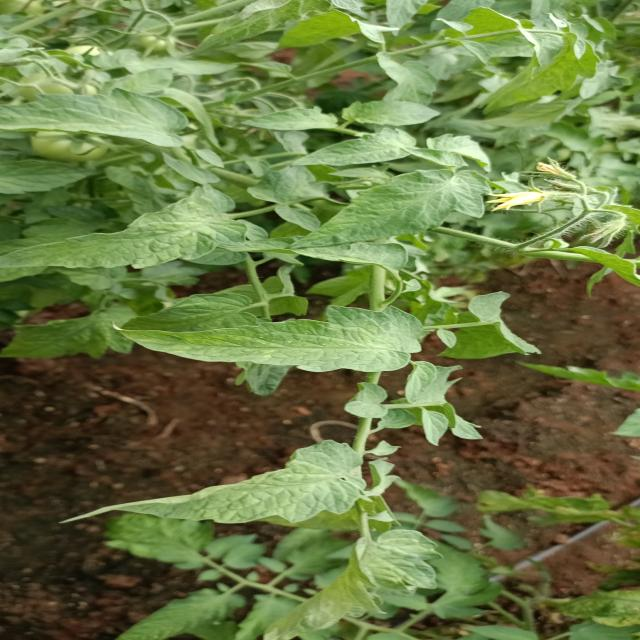Healthy Leaf: (57, 438, 383, 530), (85, 305, 439, 376), (244, 167, 503, 254)
